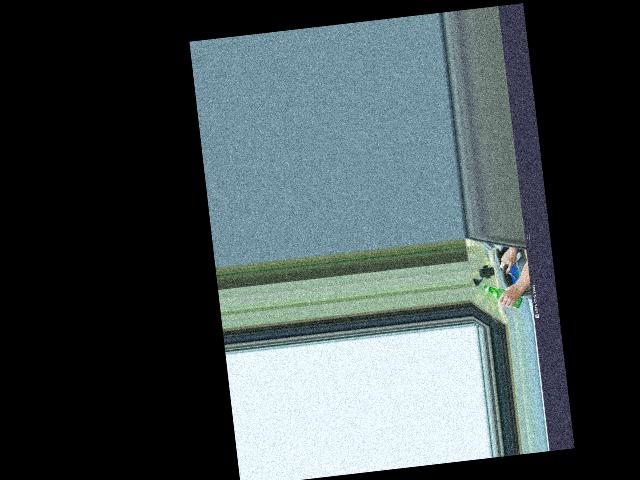beer: (483, 280, 524, 311)
